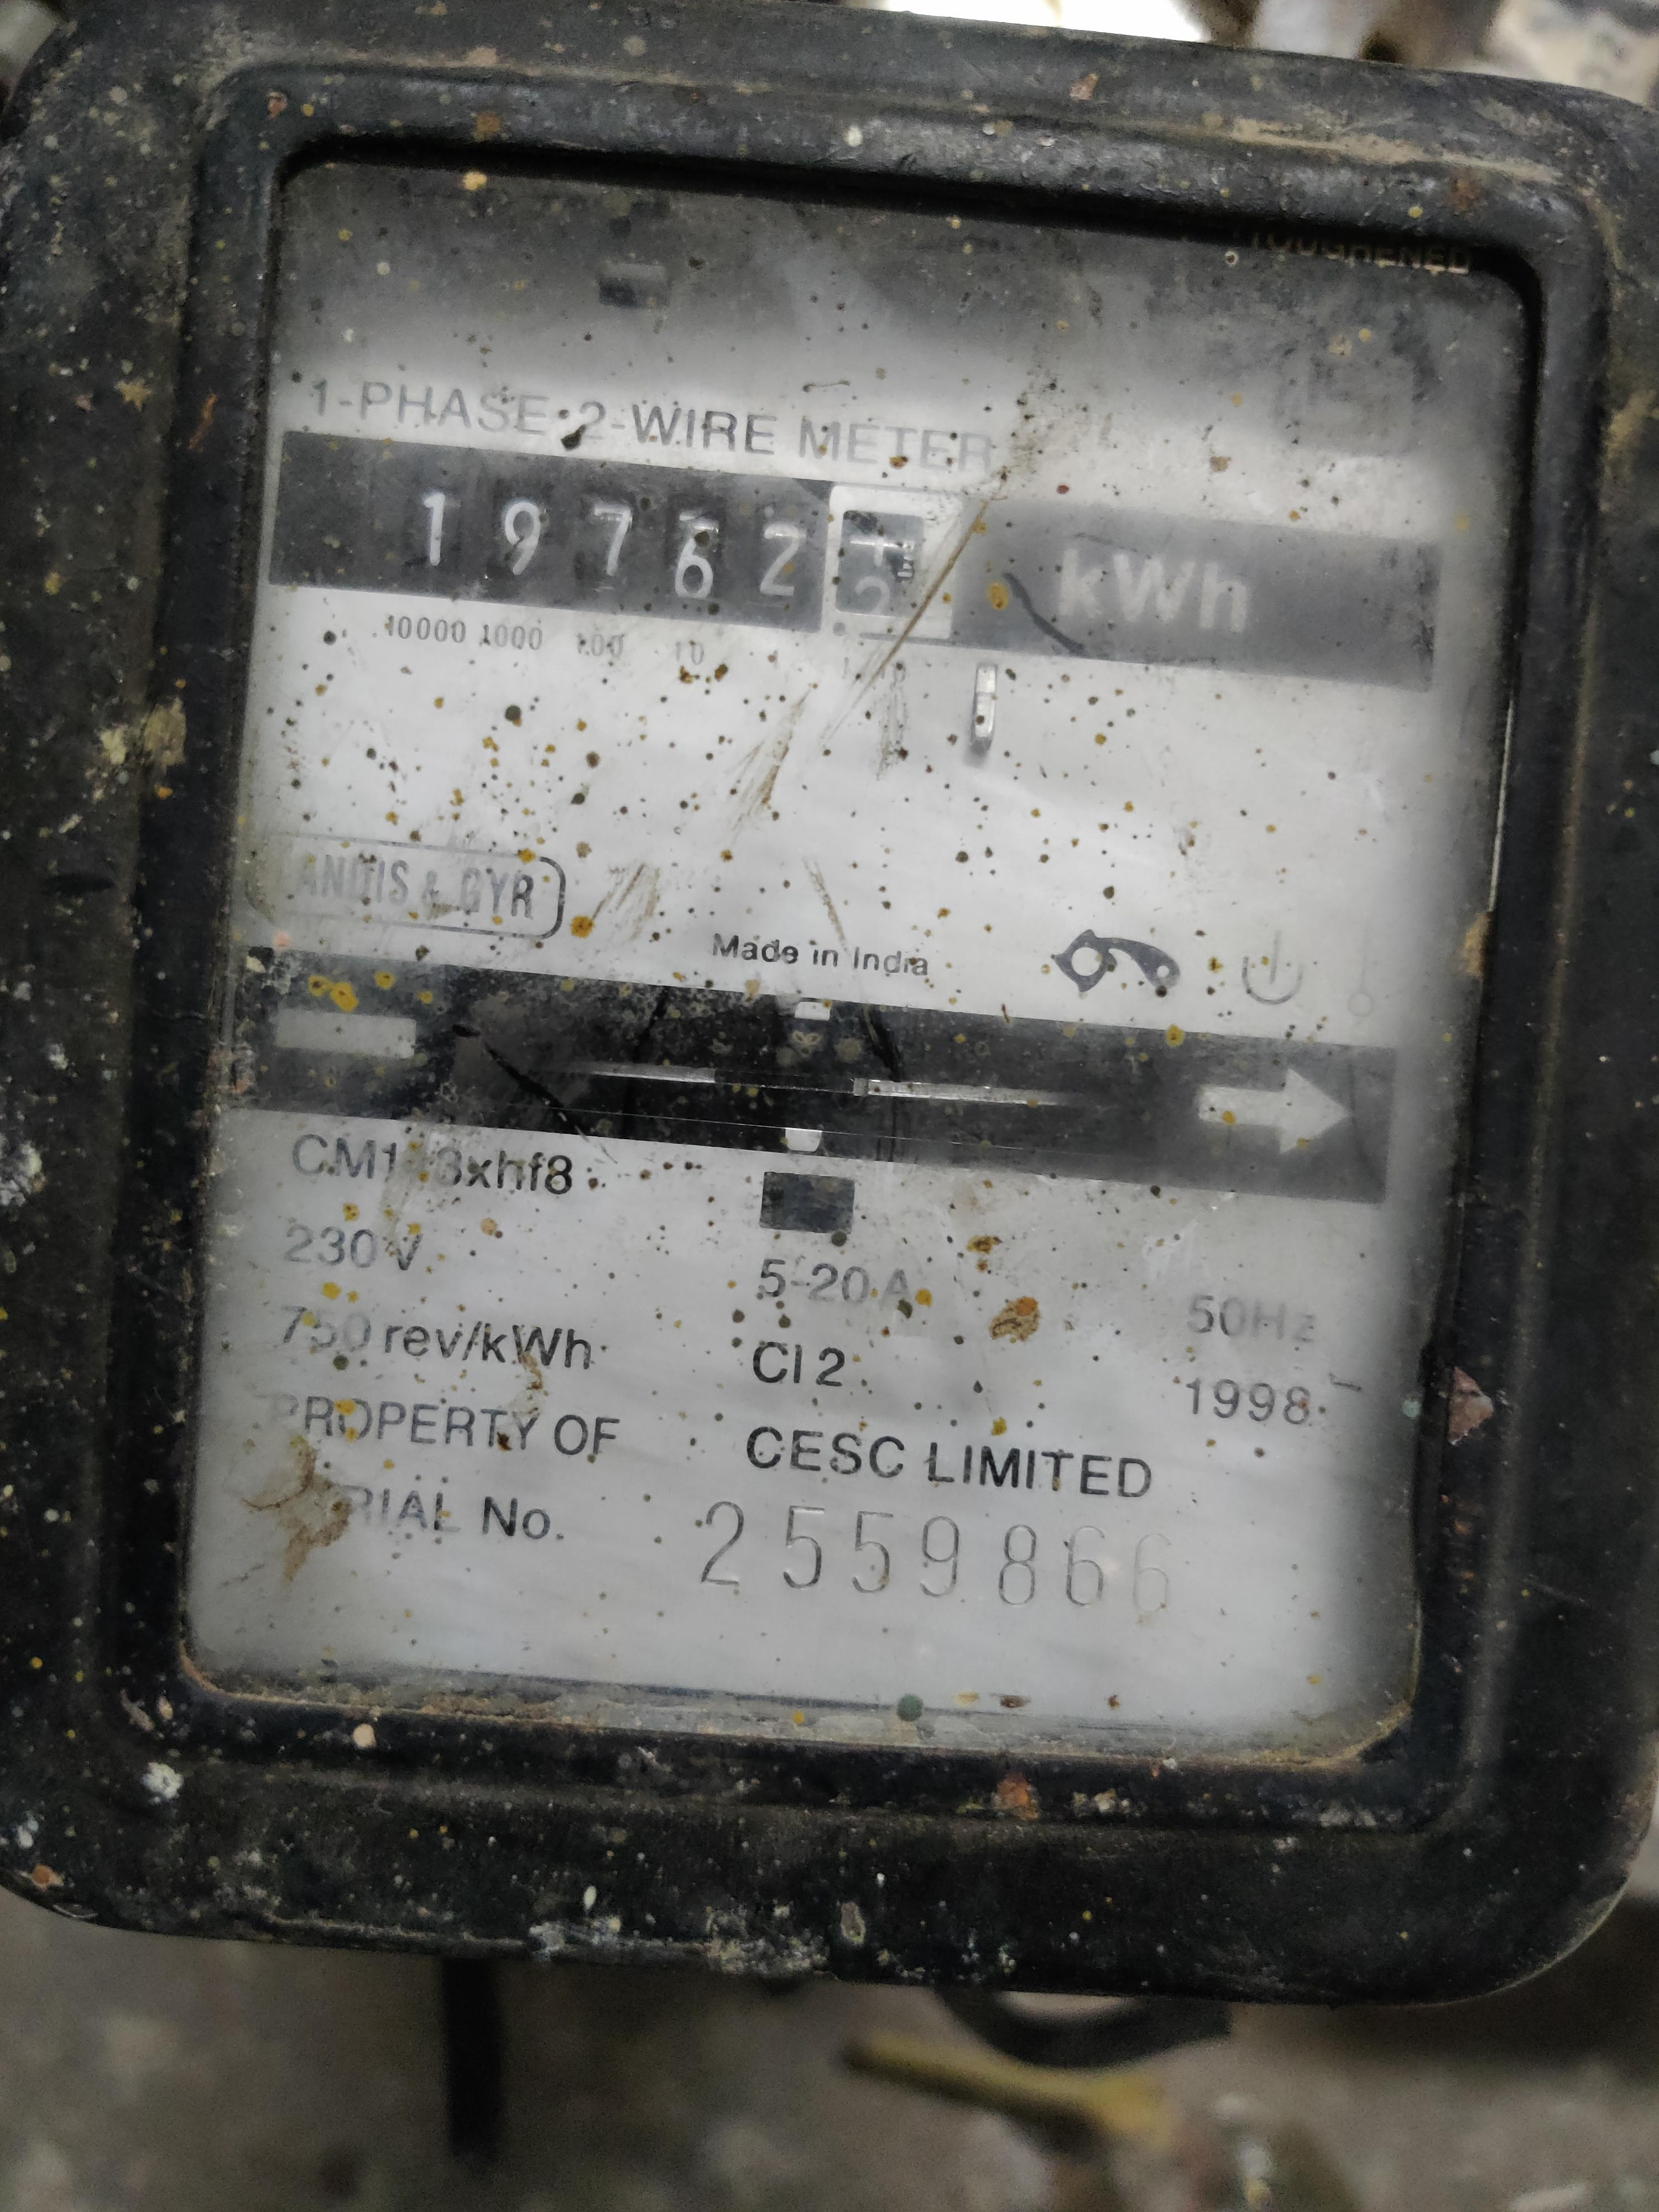meter_readings: (356, 447, 971, 640)
serial_number: (664, 1498, 1201, 1632)
